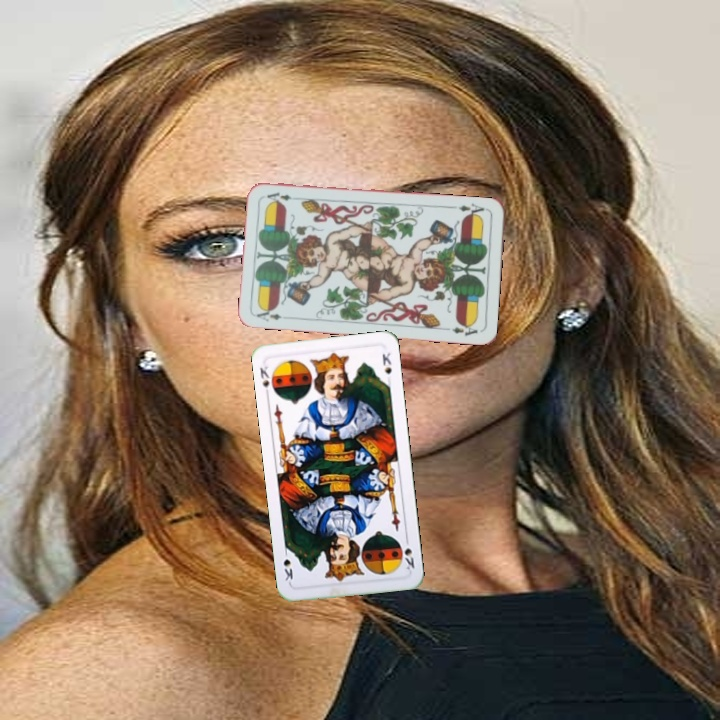EA: (455, 199, 490, 220), (253, 304, 284, 324)
SK: (400, 533, 417, 572), (255, 362, 272, 399)
